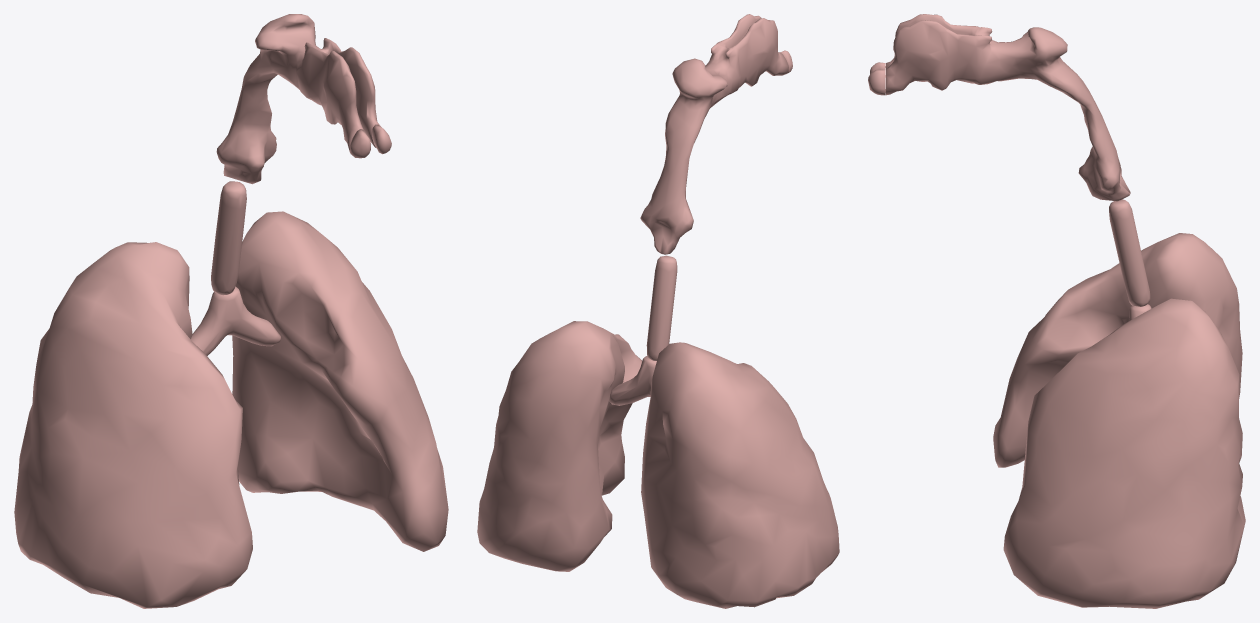
Rendered from pediatric_infant_male.respiratory.LOD1.glb.
The picture shows the model from 3 angles, left to right: view 1: azimuth 30°, elevation 25°; view 2: azimuth 150°, elevation 25°; view 3: azimuth 270°, elevation 25°; orthographic projection. The views are drawn at different scales.
Parts seen in each view (by area): view 1: PEDIATRIC.INFANT.MALE.RESPIRATORY.LUNG.R, PEDIATRIC.INFANT.MALE.RESPIRATORY.LUNG.L, PEDIATRIC.INFANT.MALE.RESPIRATORY.ET2, PEDIATRIC.INFANT.MALE.RESPIRATORY.BB1, PEDIATRIC.INFANT.MALE.RESPIRATORY.TRACHEA, PEDIATRIC.INFANT.MALE.RESPIRATORY.ET1; view 2: PEDIATRIC.INFANT.MALE.RESPIRATORY.LUNG.R, PEDIATRIC.INFANT.MALE.RESPIRATORY.LUNG.L, PEDIATRIC.INFANT.MALE.RESPIRATORY.ET2, PEDIATRIC.INFANT.MALE.RESPIRATORY.TRACHEA, PEDIATRIC.INFANT.MALE.RESPIRATORY.BB1; view 3: PEDIATRIC.INFANT.MALE.RESPIRATORY.LUNG.L, PEDIATRIC.INFANT.MALE.RESPIRATORY.LUNG.R, PEDIATRIC.INFANT.MALE.RESPIRATORY.ET2, PEDIATRIC.INFANT.MALE.RESPIRATORY.TRACHEA, PEDIATRIC.INFANT.MALE.RESPIRATORY.ET1.
Boxes of the visible parts, bbox=[...] form: PEDIATRIC.INFANT.MALE.RESPIRATORY.LUNG.R: bbox=[14, 242, 252, 608]; PEDIATRIC.INFANT.MALE.RESPIRATORY.LUNG.L: bbox=[232, 211, 448, 551]; PEDIATRIC.INFANT.MALE.RESPIRATORY.ET2: bbox=[216, 14, 380, 184]; PEDIATRIC.INFANT.MALE.RESPIRATORY.BB1: bbox=[191, 286, 280, 355]; PEDIATRIC.INFANT.MALE.RESPIRATORY.TRACHEA: bbox=[211, 181, 246, 295]; PEDIATRIC.INFANT.MALE.RESPIRATORY.ET1: bbox=[349, 124, 391, 158]; PEDIATRIC.INFANT.MALE.RESPIRATORY.LUNG.R: bbox=[641, 342, 839, 608]; PEDIATRIC.INFANT.MALE.RESPIRATORY.LUNG.L: bbox=[477, 321, 642, 571]; PEDIATRIC.INFANT.MALE.RESPIRATORY.ET2: bbox=[640, 14, 788, 254]; PEDIATRIC.INFANT.MALE.RESPIRATORY.TRACHEA: bbox=[646, 255, 677, 360]; PEDIATRIC.INFANT.MALE.RESPIRATORY.BB1: bbox=[609, 356, 656, 405]; PEDIATRIC.INFANT.MALE.RESPIRATORY.LUNG.L: bbox=[1003, 298, 1245, 608]; PEDIATRIC.INFANT.MALE.RESPIRATORY.LUNG.R: bbox=[993, 233, 1242, 467]; PEDIATRIC.INFANT.MALE.RESPIRATORY.ET2: bbox=[886, 14, 1130, 201]; PEDIATRIC.INFANT.MALE.RESPIRATORY.TRACHEA: bbox=[1109, 199, 1150, 306]; PEDIATRIC.INFANT.MALE.RESPIRATORY.ET1: bbox=[868, 62, 885, 95].
Bounding box in the file's own units: 0.1374 × 0.1924 × 0.1285.
